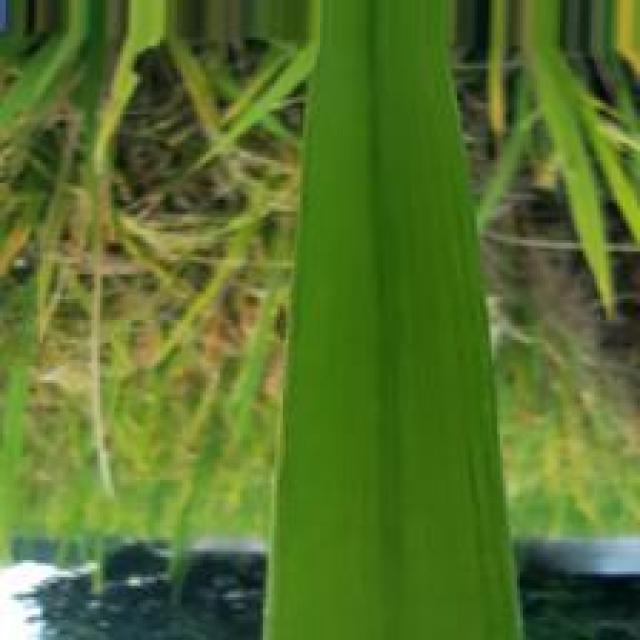HealthyLeaf: (265, 0, 528, 640)
